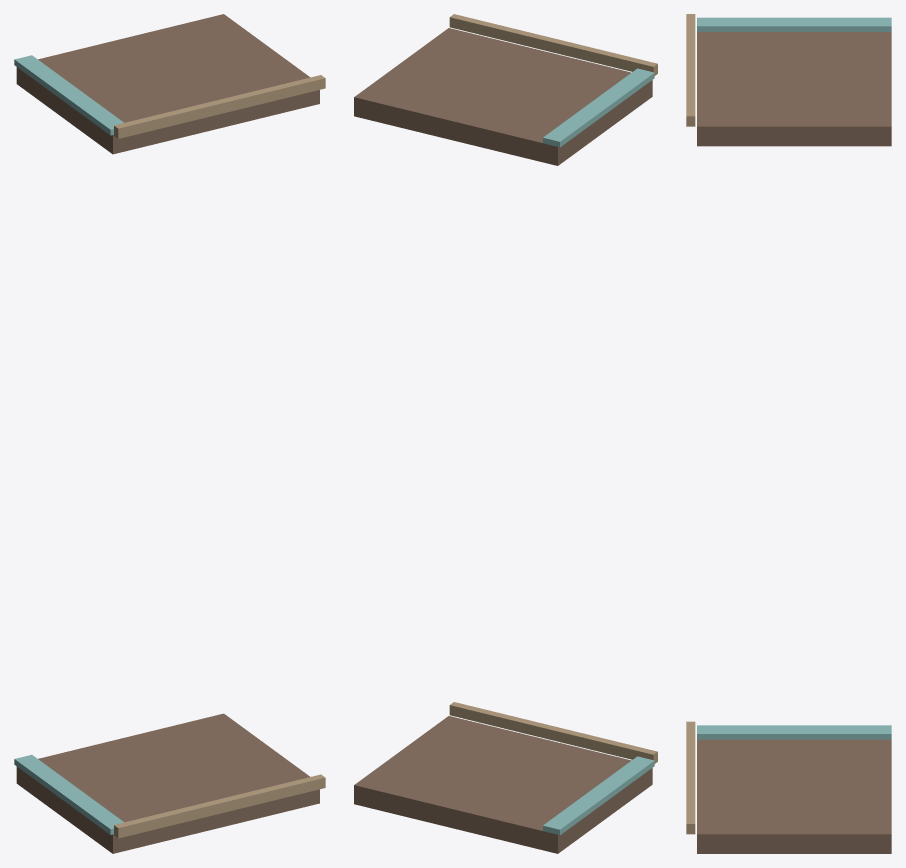
The model's file is connection_024_approach_platforms.glb.
3 views of the same model, side by side, from view 1: azimuth 30°, elevation 25°; view 2: azimuth 150°, elevation 25°; view 3: azimuth 270°, elevation 25° (orthographic). The views are drawn at different scales.
Visible parts, largest first — view 1: lower_approach_platform, upper_approach_platform, lower_platform_edge, upper_platform_edge, lower_door_threshold, upper_door_threshold; view 2: upper_approach_platform, lower_approach_platform, lower_platform_edge, upper_platform_edge, lower_door_threshold, upper_door_threshold; view 3: lower_approach_platform, upper_approach_platform, lower_door_threshold, upper_door_threshold, lower_platform_edge, upper_platform_edge.
Part boxes in pixels (x1,y1,x2,y2): lower_approach_platform: (16, 713, 319, 853); upper_approach_platform: (16, 14, 319, 154); lower_platform_edge: (114, 774, 325, 838); upper_platform_edge: (114, 75, 325, 138); lower_door_threshold: (14, 754, 123, 834); upper_door_threshold: (14, 55, 123, 135); upper_approach_platform: (354, 28, 652, 165); lower_approach_platform: (354, 716, 652, 853); lower_platform_edge: (449, 702, 657, 763); upper_platform_edge: (449, 14, 657, 75); lower_door_threshold: (543, 756, 654, 835); upper_door_threshold: (543, 68, 654, 147); lower_approach_platform: (697, 739, 891, 853); upper_approach_platform: (697, 32, 891, 146); lower_door_threshold: (697, 725, 891, 739); upper_door_threshold: (697, 17, 891, 31); lower_platform_edge: (686, 721, 695, 834); upper_platform_edge: (686, 14, 695, 126).
Size of the model in its own units: 0.955 by 3.18 by 0.8025.
